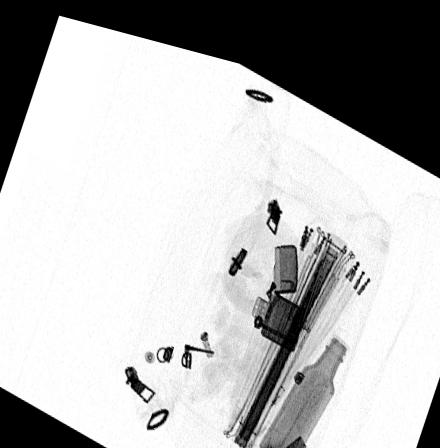Lighter: (249, 227, 304, 336)
